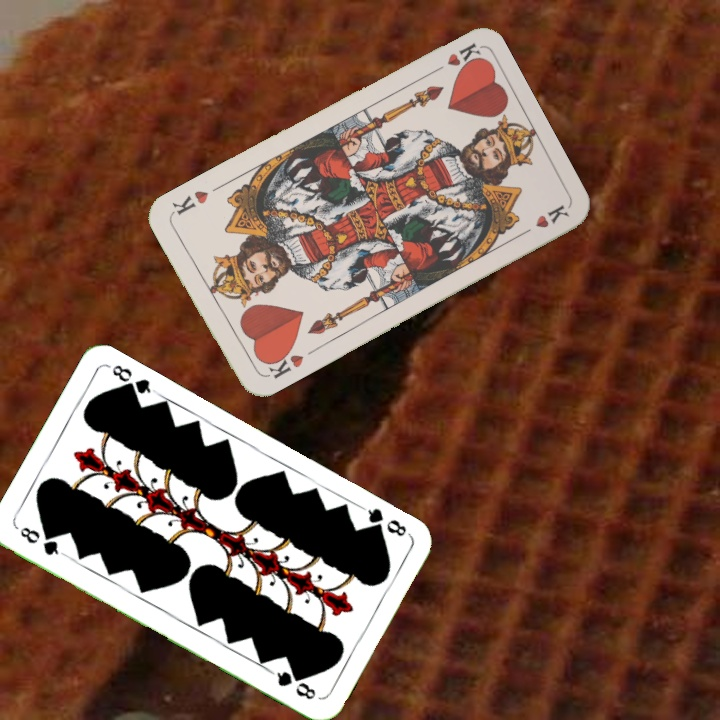G8: (358, 502, 412, 539), (15, 522, 67, 558)
HK: (425, 39, 483, 78), (259, 344, 307, 381)
